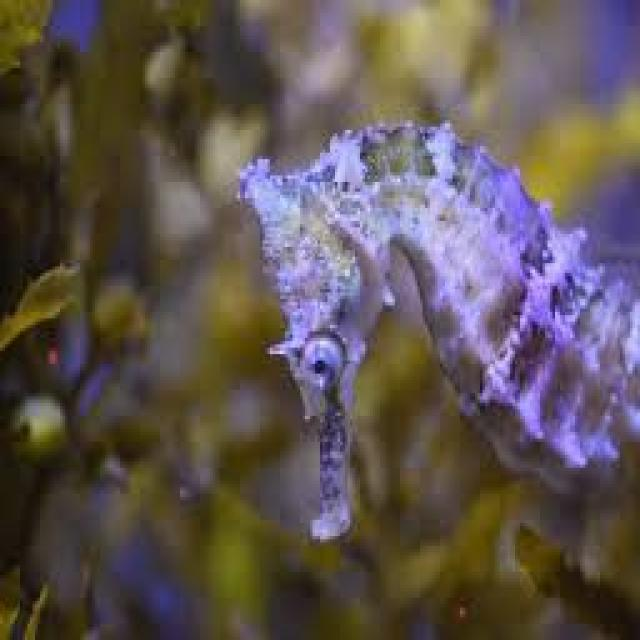seahorse: (240, 123, 638, 536)
